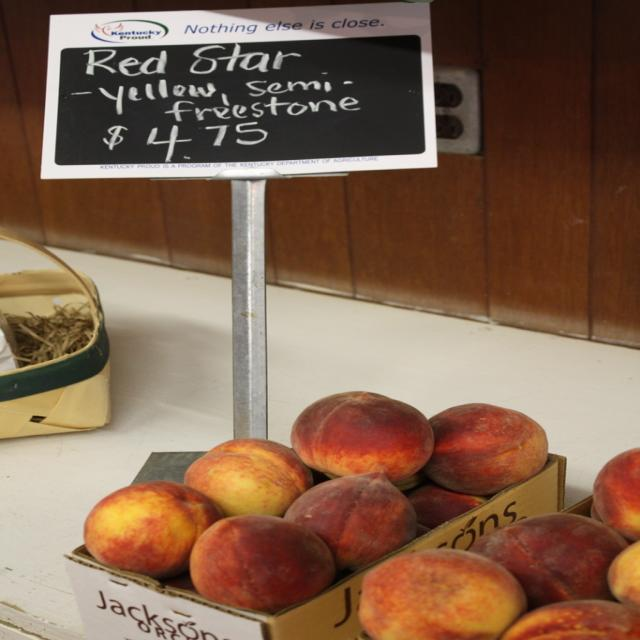Peach: (85, 388, 553, 610), (358, 446, 640, 640), (431, 402, 558, 491)
